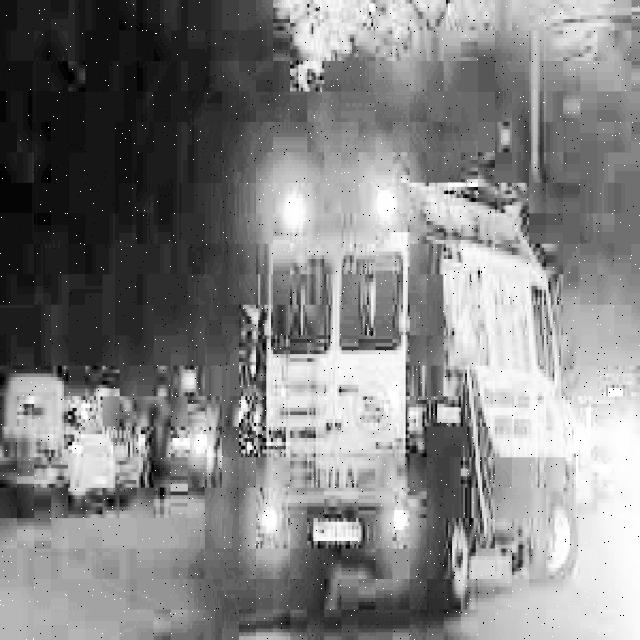Ambulance: (255, 143, 579, 604)
